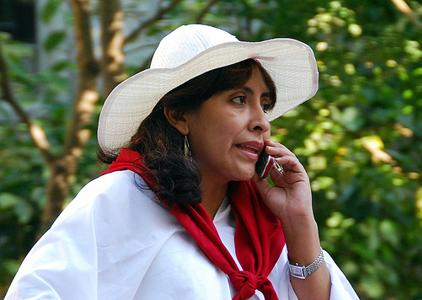person: (6, 24, 371, 300)
